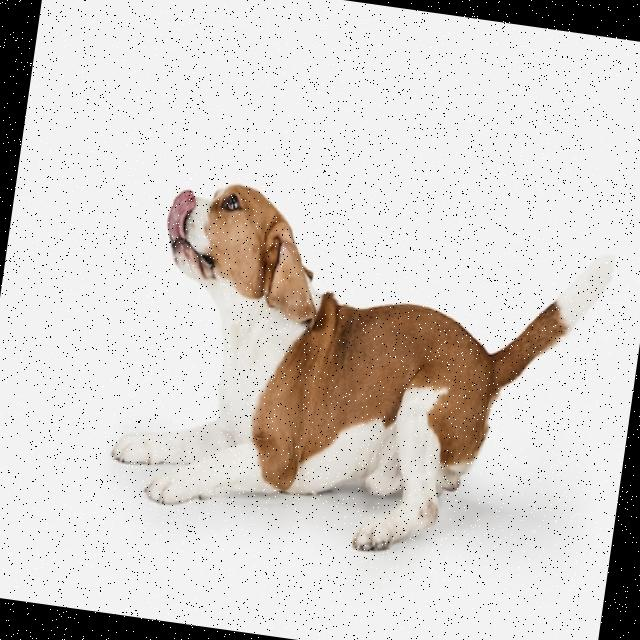Dog: (101, 169, 618, 581)
